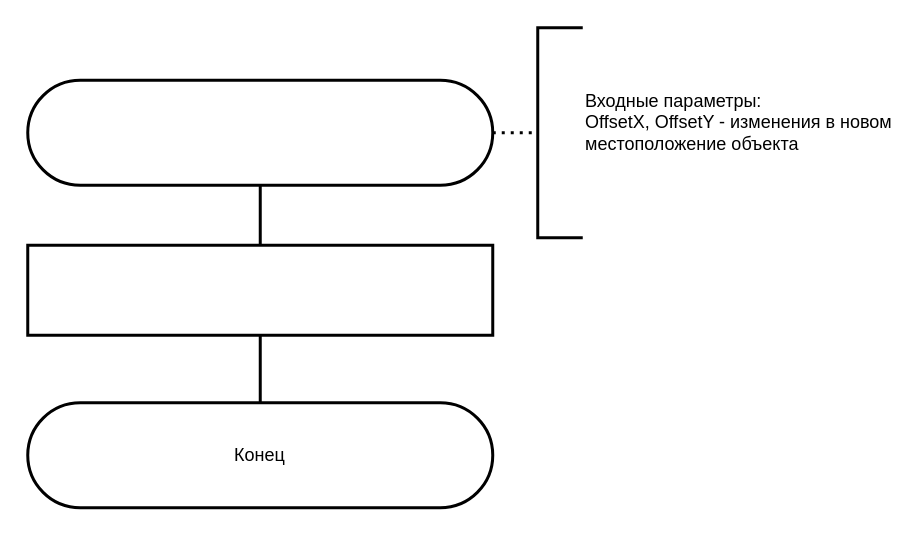
Image size: 917x534. Some labels were removed from this diagram. Here are the shapes that lost their labels. From the top down, the centre of each, then its label:
At [260,132]: "Fly".
At [260,289]: "this->Location = Point(this->Location.X + OffsetX, this->Location.Y + OffsetY);".
